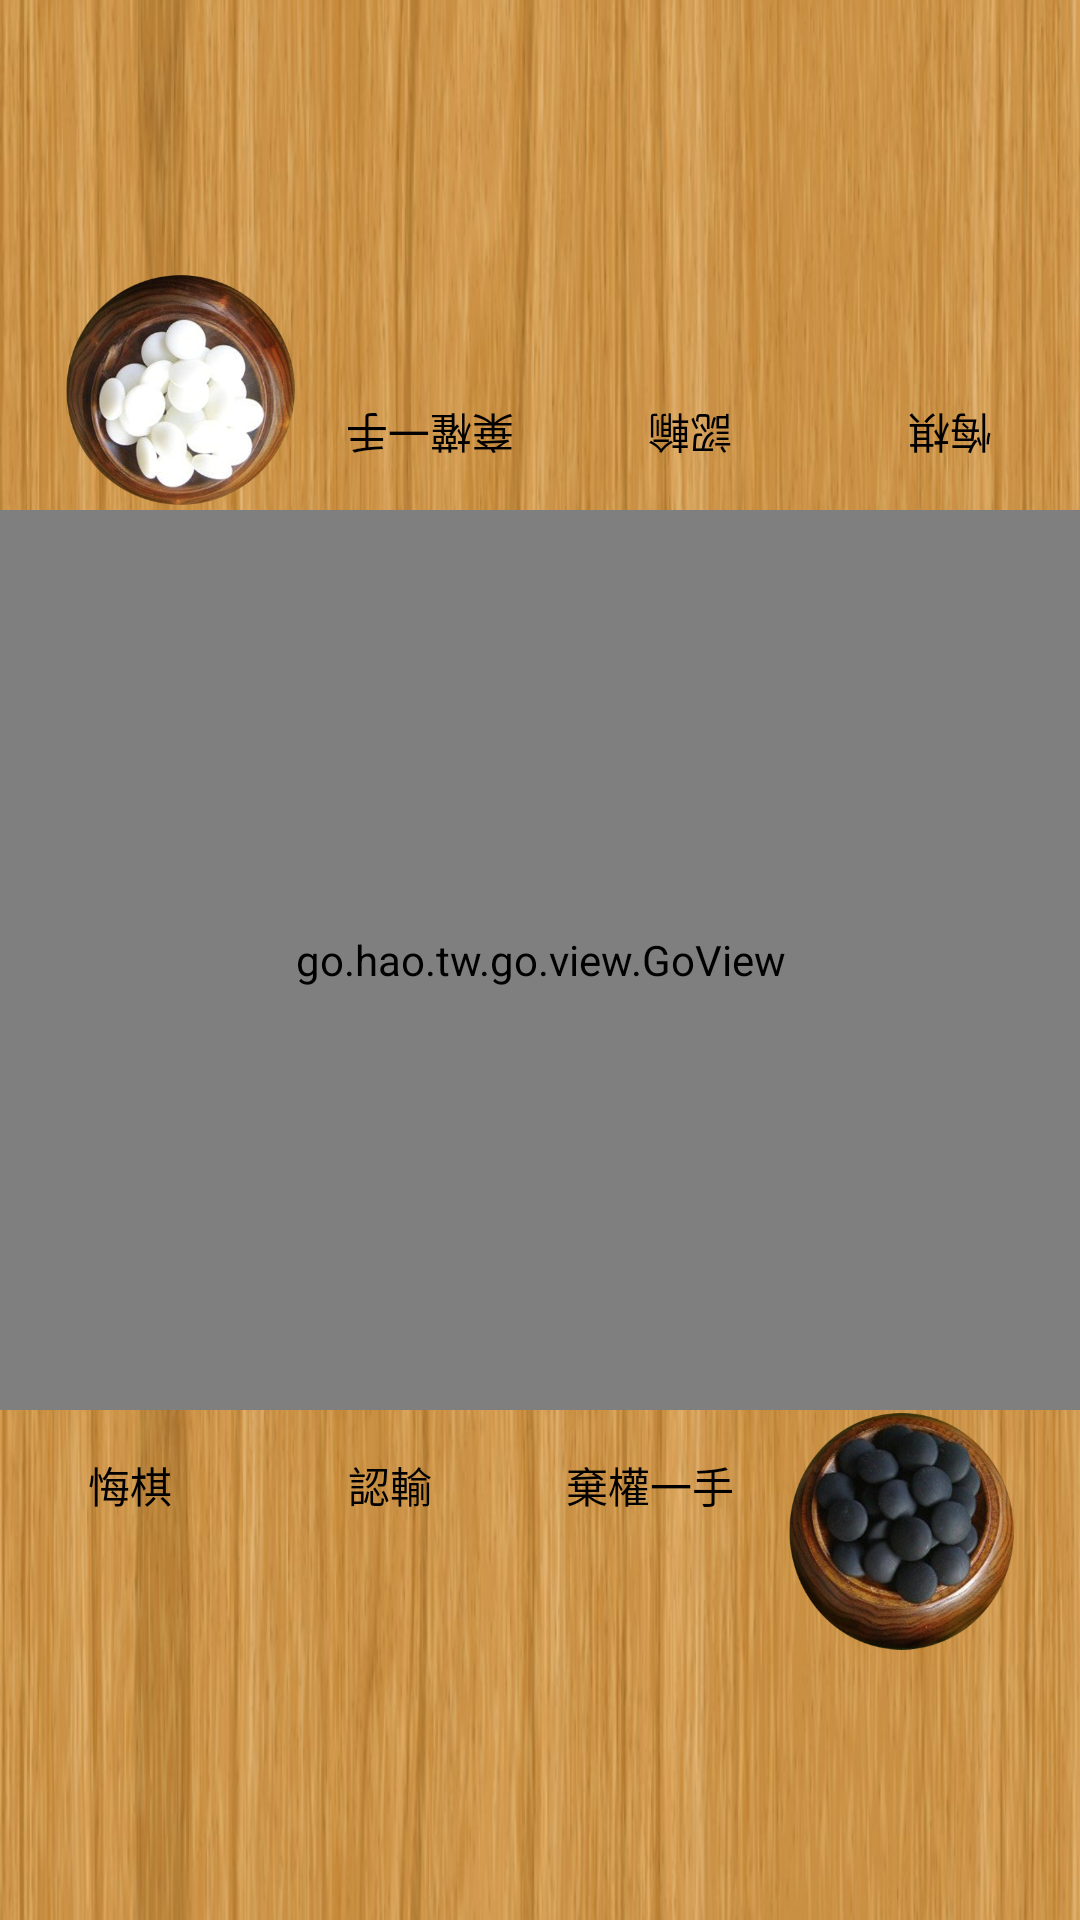

Screen size 1080×1920. Icon name, then its box in pixels as (x1, y1, x2, y2):
blackbox: (789, 1410, 1014, 1650)
whitebox: (66, 270, 295, 510)
